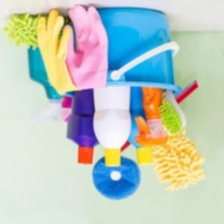cleaning_solution: (106, 25, 162, 167), (64, 23, 109, 167), (90, 17, 132, 168), (24, 18, 77, 126), (132, 25, 172, 150)
